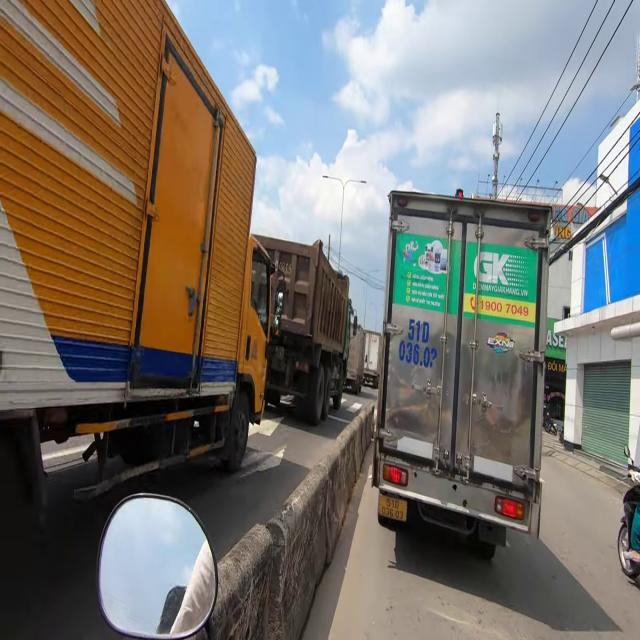bien_vang: (378, 494, 407, 524)
